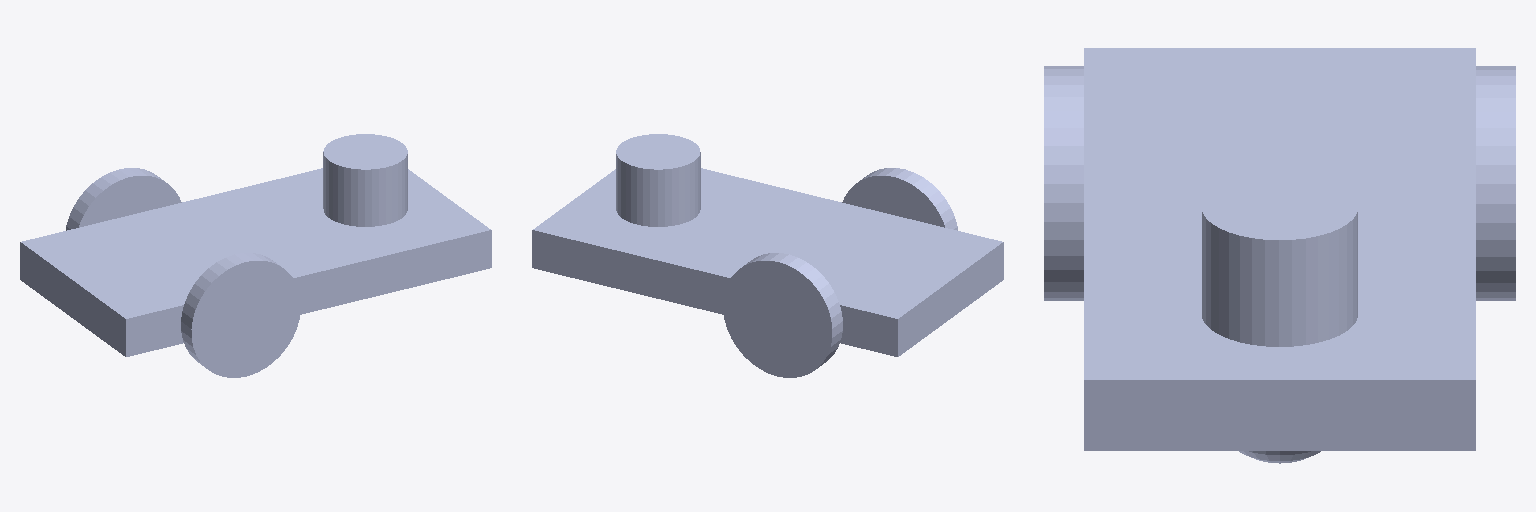
URDF robot description (box_robot):
<?xml version="1.0" encoding="utf-8"?>
<!-- This URDF was automatically created by SolidWorks to URDF Exporter! Originally created by [author] ([email redacted]) 
     Commit Version: 1.6.0-4-g7f85cfe  Build Version: 1.6.7995.38578
     For more information, please see http://wiki.ros.org/sw_urdf_exporter -->
<robot
  name="box_robot">
  <link
    name="base_link">
    <inertial>
      <origin
        xyz="0.0073292 0 -0.026081"
        rpy="0 0 0" />
      <mass
        value="6.1496" />
      <inertia
        ixx="0.033003"
        ixy="3.6252E-18"
        ixz="0.00094801"
        iyy="0.13231"
        iyz="5.1339E-19"
        izz="0.16208" />
    </inertial>
    <visual>
      <origin
        xyz="0 0 0"
        rpy="0 0 0" />
      <geometry>
        <mesh
          filename="package://box_robot/meshes/base_link.STL" />
      </geometry>
      <material
        name="purple">
        <color
          rgba="0.79216 0.81961 0.93333 1" />
      </material>
    </visual>
    <collision>
      <origin
        xyz="0 0 0"
        rpy="0 0 0" />
      <geometry>
        <mesh
          filename="package://box_robot/meshes/base_link.STL" />
      </geometry>
    </collision>
  </link>
  <link
    name="left_link">
    <inertial>
      <origin
        xyz="2.7756E-17 -0.016182 -5.5511E-17"
        rpy="0 0 0" />
      <mass
        value="2.4495" />
      <inertia
        ixx="0.0035949"
        ixy="-2.2565E-19"
        ixz="2.3765E-19"
        iyy="0.0062495"
        iyz="-1.9898E-20"
        izz="0.0035949" />
    </inertial>
    <visual>
      <origin
        xyz="0 0 0"
        rpy="0 0 0" />
      <geometry>
        <mesh
          filename="package://box_robot/meshes/left_link.STL" />
      </geometry>
      <material
        name="black">
        <color
          rgba="0.79216 0.81961 0.93333 1" />
      </material>
    </visual>
    <collision>
      <origin
        xyz="0 0 0"
        rpy="0 0 0" />
      <geometry>
        <mesh
          filename="package://box_robot/meshes/left_link.STL" />
      </geometry>
    </collision>
  </link>
  <joint
    name="left_joint"
    type="continuous">
    <origin
      xyz="-0.1 0.15 -0.025"
      rpy="0 0 0" />
    <parent
      link="base_link" />
    <child
      link="left_link" />
    <axis
      xyz="0 1 0" />
    <limit
      effort="1"
      velocity="1" />
  </joint>
  <link
    name="right_link">
    <inertial>
      <origin
        xyz="2.7756E-17 0.016182 -5.5511E-17"
        rpy="0 0 0" />
      <mass
        value="2.4495" />
      <inertia
        ixx="0.0035949"
        ixy="-1.6587E-19"
        ixz="6.452E-21"
        iyy="0.0062495"
        iyz="-5.3555E-20"
        izz="0.0035949" />
    </inertial>
    <visual>
      <origin
        xyz="0 0 0"
        rpy="0 0 0" />
      <geometry>
        <mesh
          filename="package://box_robot/meshes/right_link.STL" />
      </geometry>
      <material
        name="black">
        <color
          rgba="0.79216 0.81961 0.93333 1" />
      </material>
    </visual>
    <collision>
      <origin
        xyz="0 0 0"
        rpy="0 0 0" />
      <geometry>
        <mesh
          filename="package://box_robot/meshes/right_link.STL" />
      </geometry>
    </collision>
  </link>
  <joint
    name="right_joint"
    type="continuous">
    <origin
      xyz="-0.1 -0.15 -0.025"
      rpy="0 0 0" />
    <parent
      link="base_link" />
    <child
      link="right_link" />
    <axis
      xyz="0 1 0" />
    <limit
      effort="1"
      velocity="1" />
  </joint>
  <link
  name="sensor_link">
  <inertial>
    <origin
      xyz="-6.9389E-18 0 -0.0375"
      rpy="0 0 0" />
    <mass
      value="1.1781" />
    <inertia
      ixx="0.0012885"
      ixy="5.9292E-20"
      ixz="-3.3881E-20"
      iyy="0.0012885"
      iyz="-2.7498E-35"
      izz="0.0014726" />
  </inertial>
  <visual>
    <origin
      xyz="0 0 0"
      rpy="0 0 0" />
    <geometry>
      <mesh
        filename="package://box_robot/meshes/sensor_link.STL" />
    </geometry>
    <material
      name="white">
      <color
        rgba="0.79216 0.81961 0.93333 1" />
    </material>
  </visual>
  <collision>
    <origin
      xyz="0 0 0"
      rpy="0 0 0" />
    <geometry>
      <mesh
        filename="package://box_robot/meshes/sensor_link.STL" />
    </geometry>
  </collision>
</link>
<joint
  name="sensor_joint"
  type="fixed">
  <origin
    xyz="0.15 0 0.075"
    rpy="0 0 0" />
  <parent
    link="base_link" />
  <child
    link="sensor_link" />
  <axis
    xyz="0 0 0" />
  <limit
    effort="1"
    velocity="1" />
</joint>
  <gazebo>
    <plugin name="differential_drive_controller" filename="libgazebo_ros_diff_drive.so">
      <updateRate>100</updateRate>
      <leftJoint>left_joint</leftJoint>
      <rightJoint>right_joint</rightJoint>
      <wheelSeparation>0.3</wheelSeparation>
      <wheelDiameter>0.15</wheelDiameter>
      <commandTopic>cmd_vel</commandTopic>
      <odometryTopic>odom</odometryTopic>
      <odometryFrame>odom</odometryFrame>
      <robotBaseFrame>base_link</robotBaseFrame>
      <legacyMode>false</legacyMode>
      <alwaysOn>true</alwaysOn>
      <torque>0</torque>
    </plugin>
  </gazebo>
  <gazebo reference="sensor_link">
    <sensor type="ray" name="head_hokuyo_sensor">
      <pose>0 0 0 0 0 0</pose>
      <visualize>true</visualize>
      <update_rate>20</update_rate>
      <ray>
        <scan>
          <horizontal>
            <samples>720</samples>
            <resolution>1</resolution>
            <min_angle>-1.570796</min_angle>
            <max_angle>1.570796</max_angle>
          </horizontal>
        </scan>
        <range>
          <min>0.10</min>
          <max>10.0</max>
          <resolution>0.01</resolution>
        </range>
        <noise>
          <type>gaussian</type>
          <mean>0.0</mean>
          <stddev>0.01</stddev>
        </noise>
      </ray>
      <plugin name="gazebo_ros_head_hokuyo_controller" filename="libgazebo_ros_laser.so">
        <topicName>/box_robot/laser/scan</topicName>
        <frameName>sensor_link</frameName>
      </plugin>
    </sensor>
  </gazebo>
  <gazebo reference="base_link">
    <material>Gazebo/Purple</material>
  </gazebo>
  <gazebo reference="left_link">
    <material>Gazebo/Black</material>
  </gazebo>
  <gazebo reference="right_link">
    <material>Gazebo/Black</material>
  </gazebo>
  <gazebo reference="sensor_link">
    <material>Gazebo/White</material>
  </gazebo>
  <material name="black">
    <color rgba="0.0 0.0 0.0 1.0"/>
  </material>
  <material name="blue">
    <color rgba="0.203125 0.23828125 0.28515625 1.0"/>
  </material>
  <material name="green">
    <color rgba="0.0 0.8 0.0 1.0"/>
  </material>
  <material name="grey">
    <color rgba="0.2 0.2 0.2 1.0"/>
  </material>
  <material name="orange">
    <color rgba="1.0 0.423529411765 0.0392156862745 1.0"/>
  </material>
  <material name="brown">
    <color rgba="0.870588235294 0.811764705882 0.764705882353 1.0"/>
  </material>
  <material name="red">
    <color rgba="0.80078125 0.12890625 0.1328125 1.0"/>
  </material>
  <material name="white">
    <color rgba="1 1 1 1.0"/>
  </material>
  <material name="purple">
    <color rgba="0.80078125 0.12890625 0.8 1.0"/>
  </material>
</robot>

--- Facts derived from the render (not from the file) ---
Views: 3 orthographic renders of the robot side by side, from view 1: azimuth 30°, elevation 25°; view 2: azimuth 150°, elevation 25°; view 3: azimuth 270°, elevation 25°.
Robot: box_robot — 4 links, 3 joints (2 continuous, 1 fixed); root link base_link; default pose: all joints at 0.
Visible links, largest first — view 1: base_link, right_link, sensor_link, left_link; view 2: base_link, left_link, sensor_link, right_link; view 3: base_link, sensor_link, left_link, right_link.
Link boxes in pixels (left/top/right/bottom): base_link: left=20, top=168, right=491, bottom=356; right_link: left=181, top=253, right=300, bottom=377; sensor_link: left=323, top=134, right=407, bottom=226; left_link: left=66, top=168, right=181, bottom=230; base_link: left=532, top=168, right=1003, bottom=356; left_link: left=723, top=253, right=842, bottom=377; sensor_link: left=616, top=134, right=700, bottom=226; right_link: left=842, top=168, right=957, bottom=230; base_link: left=1084, top=48, right=1475, bottom=463; sensor_link: left=1202, top=174, right=1357, bottom=346; left_link: left=1476, top=66, right=1515, bottom=300; right_link: left=1044, top=66, right=1083, bottom=300.
Bounding box of the posed robot: 0.5 × 0.3 × 0.175 m (x, y, z).
4 mesh visuals loaded from 4 distinct referenced files (4 binary STL).